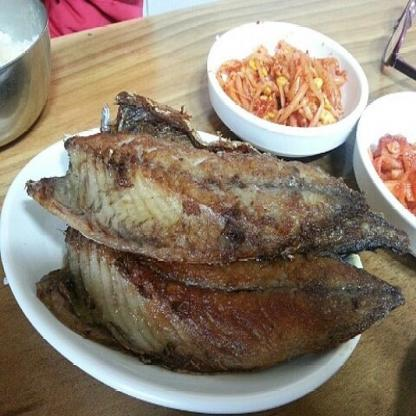Peixe: (17, 109, 390, 361)
